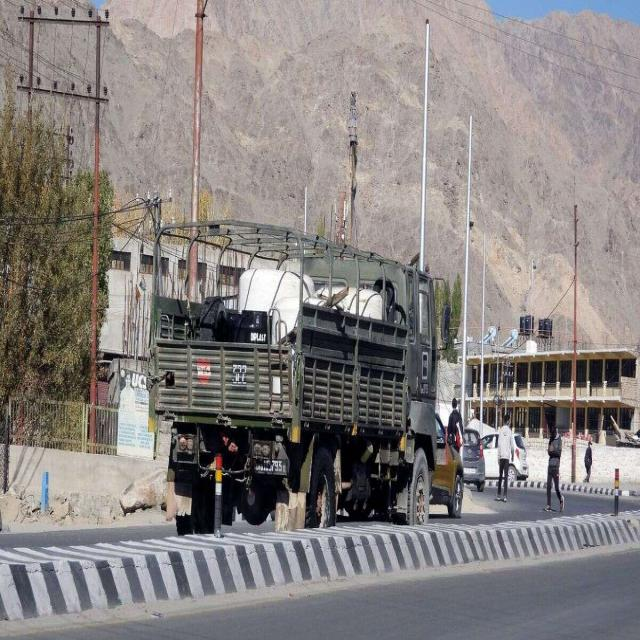truck: (149, 220, 453, 533)
